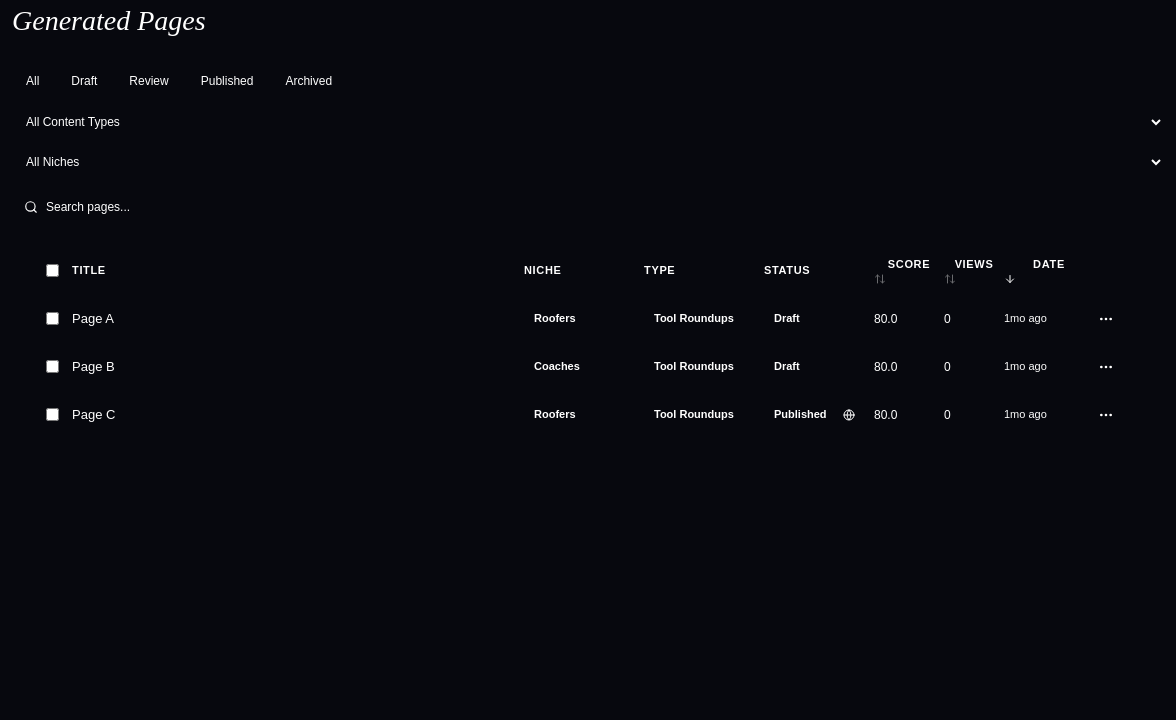
Test: GeneratedPagesManager › clears the bulk selection when a filter changes
Expected: the text titled "Page A" is shown, [72,309,114,328]
Click the checkbox named "Select Page A" at (52, 318), box [46,312,58,325]
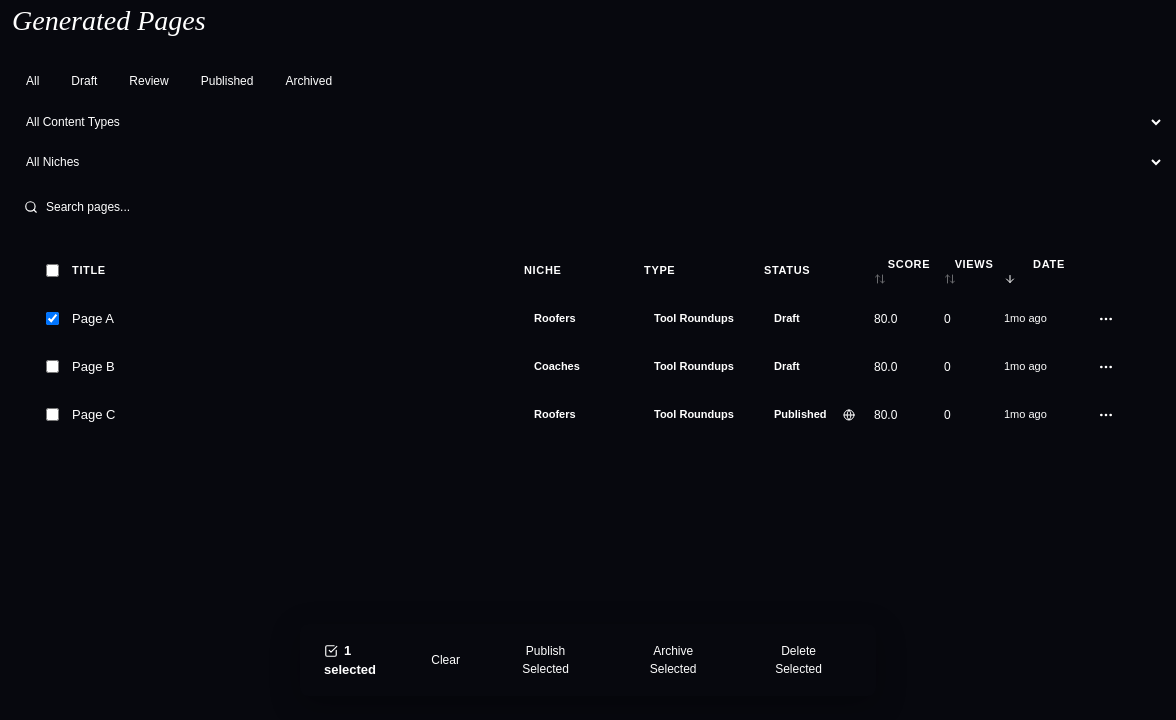
Now the text "1 selected" is shown, box [324,642,376,677]
Select "Coaches" in the dropdown named "Filter by niche" at (588, 162), box [12,148,1164,176]
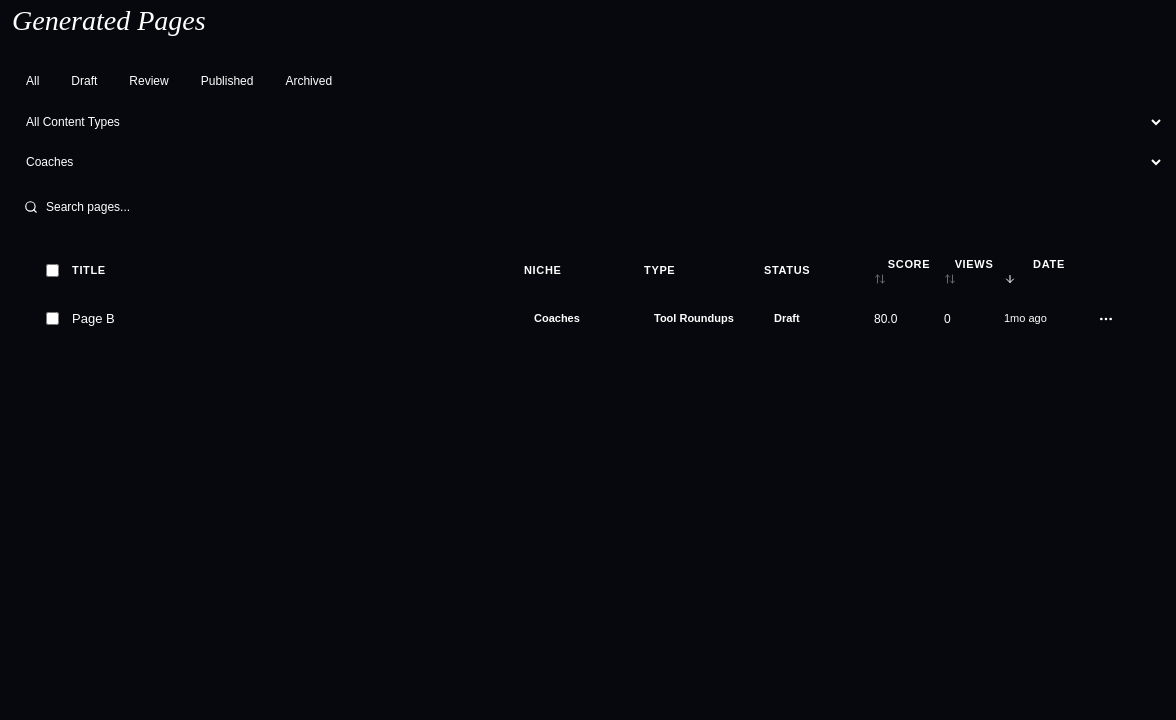
Now the text "1 selected" is gone
